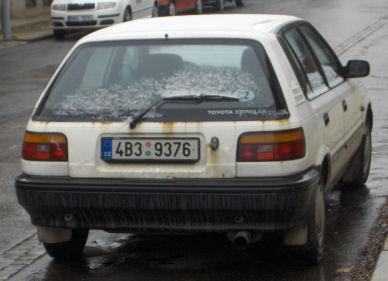placa de veiculo: (99, 135, 203, 164)
